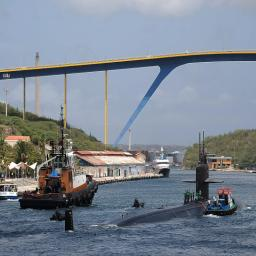submarine: (65, 165, 225, 233)
